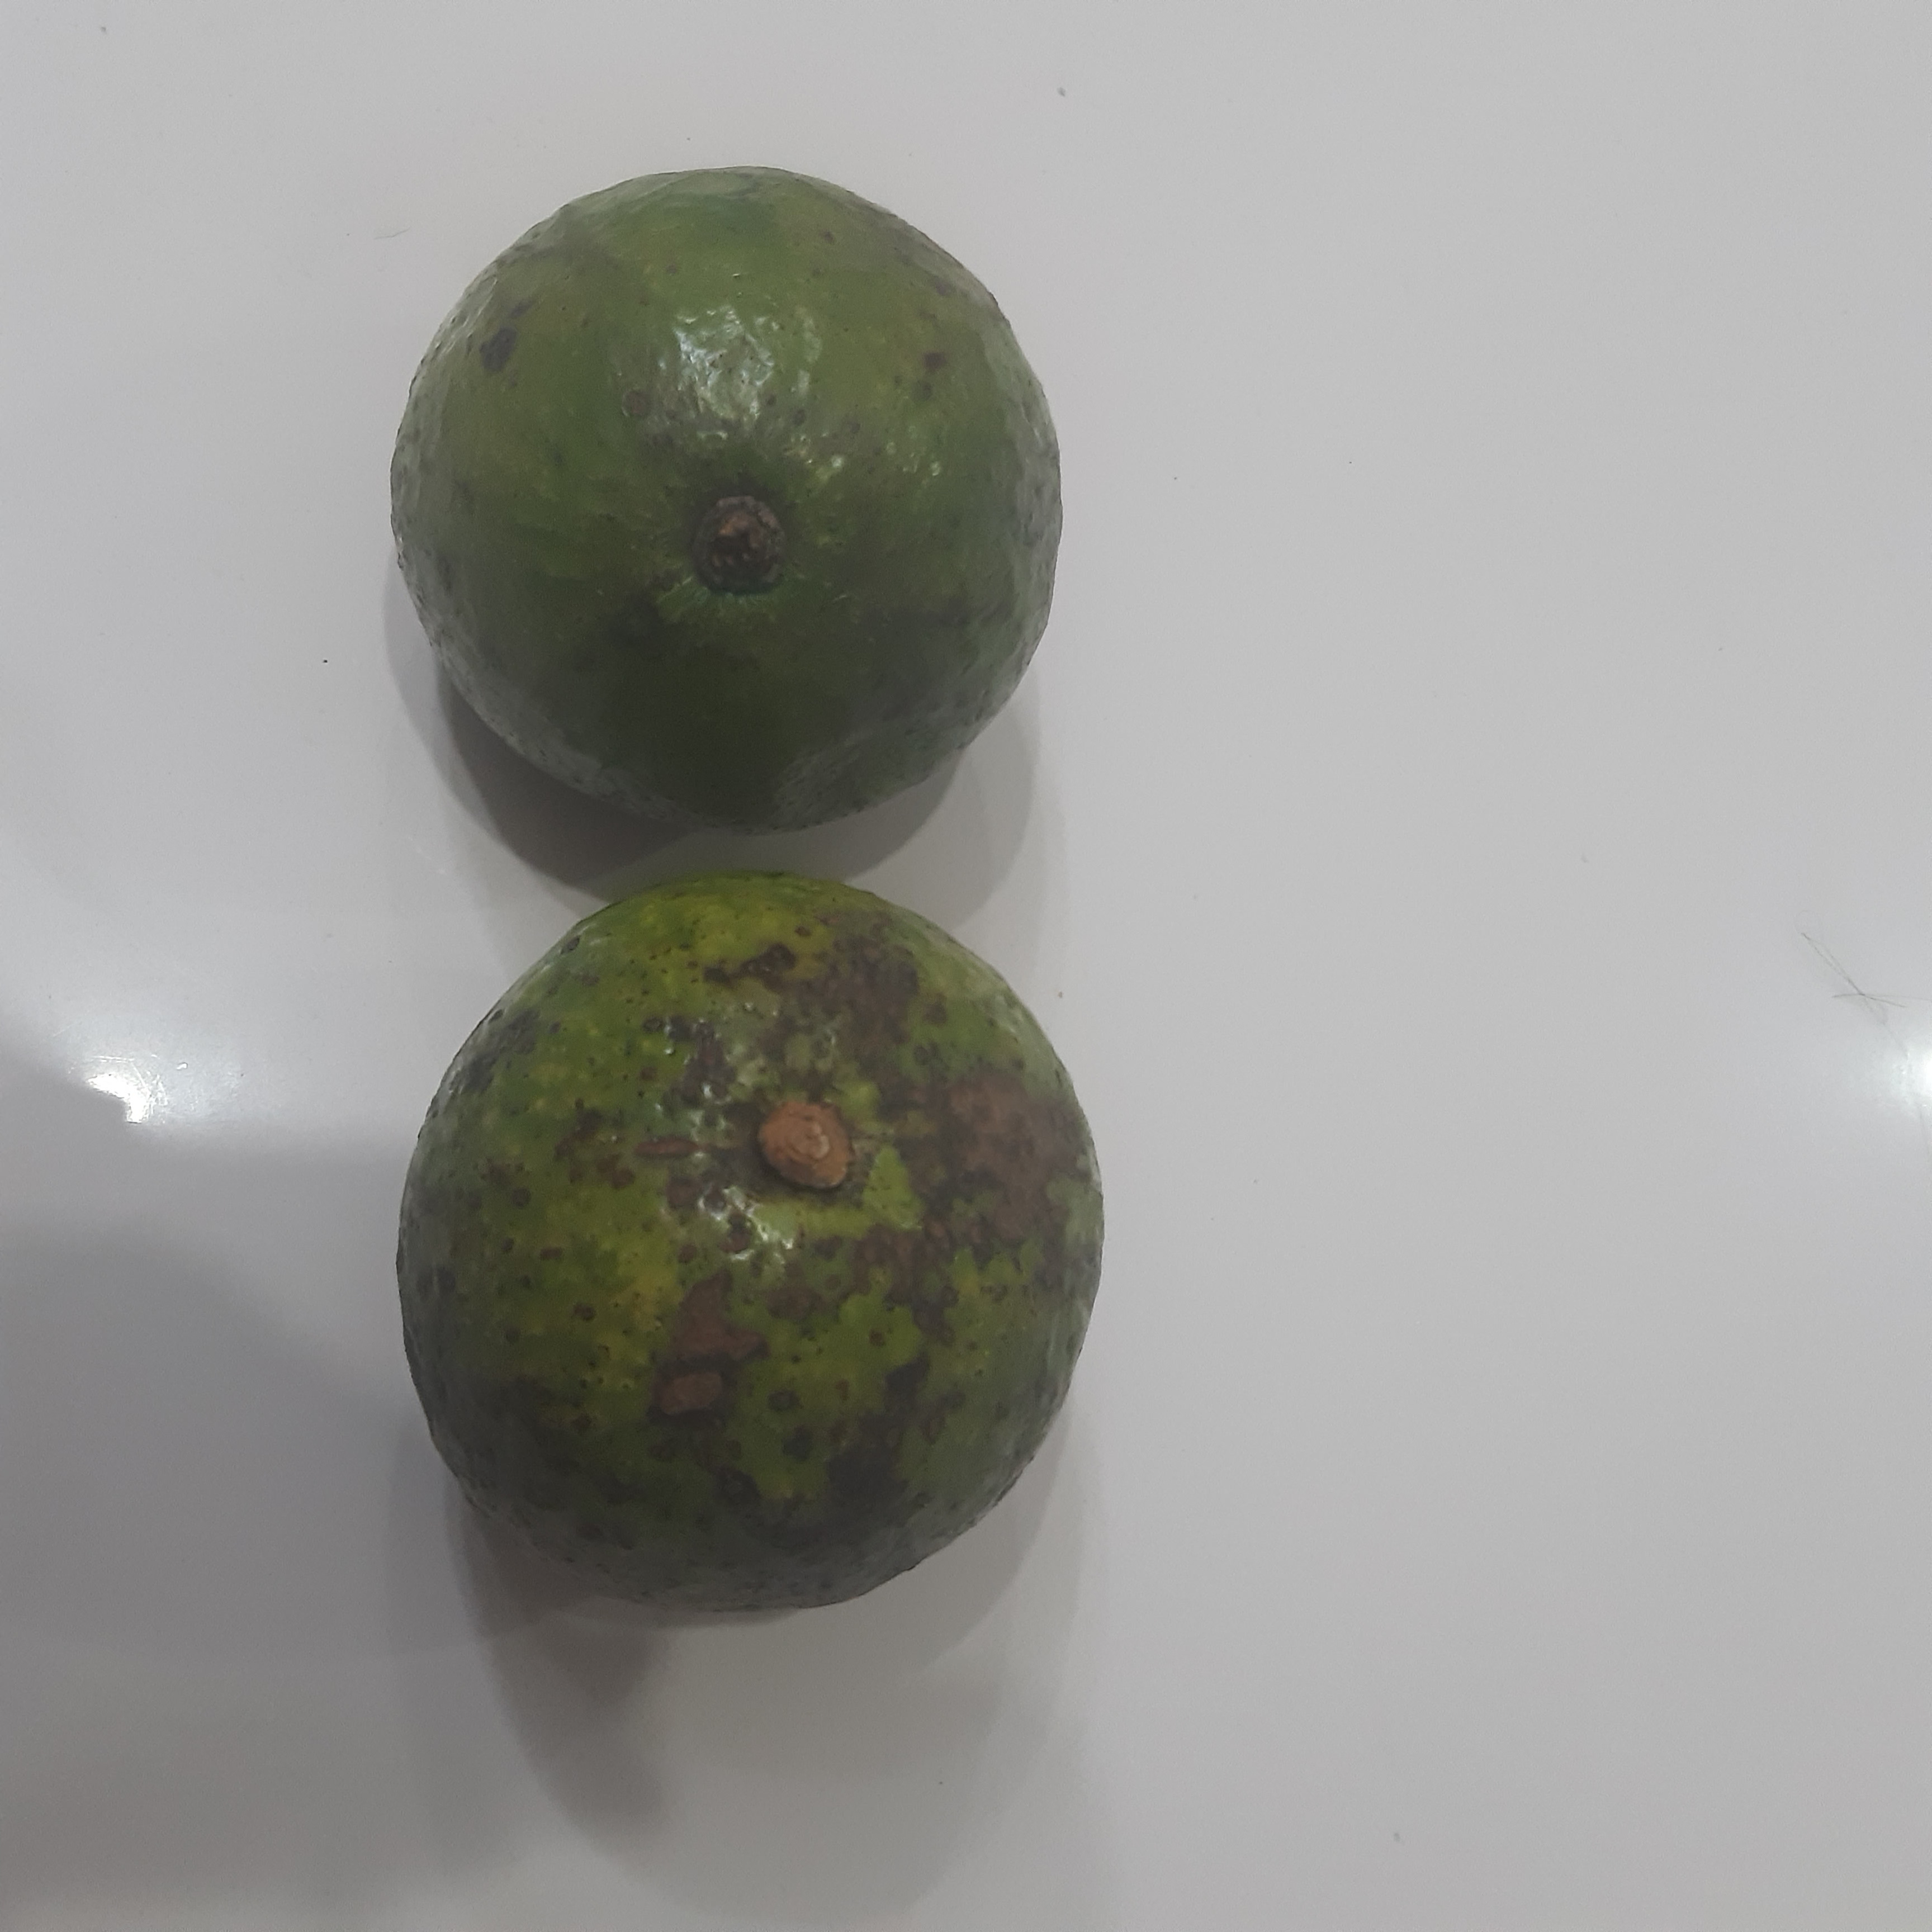Bo: (393, 869, 1103, 1623), (391, 170, 1065, 835)
